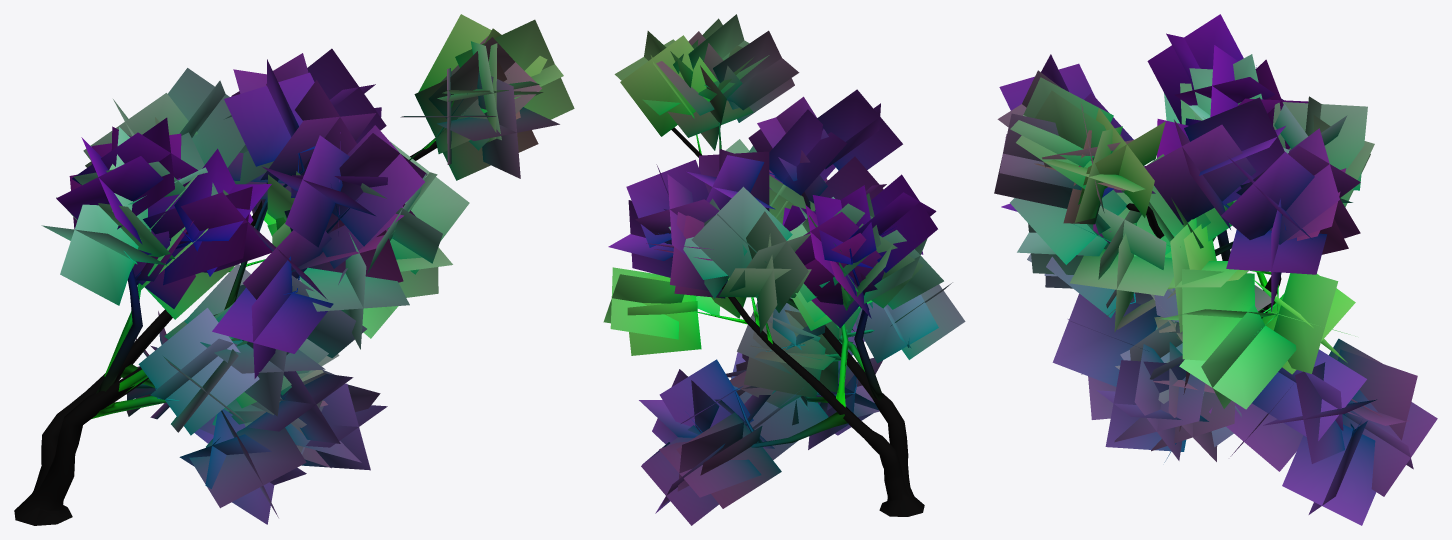
Rendered from M_P5_Tree_14.fbx.
The picture shows the model from 3 angles, left to right: view 1: azimuth 30°, elevation 25°; view 2: azimuth 150°, elevation 25°; view 3: azimuth 270°, elevation 25°; orthographic projection. The views are drawn at different scales.
Parts seen in each view (by area): view 1: Tree_14; view 2: Tree_14; view 3: Tree_14.
Boxes of the visible parts, bbox=[...] form: Tree_14: bbox=[14, 14, 574, 525]; Tree_14: bbox=[603, 14, 965, 525]; Tree_14: bbox=[994, 14, 1437, 525].
Size of the model in its own units: 460 by 483 by 402.
